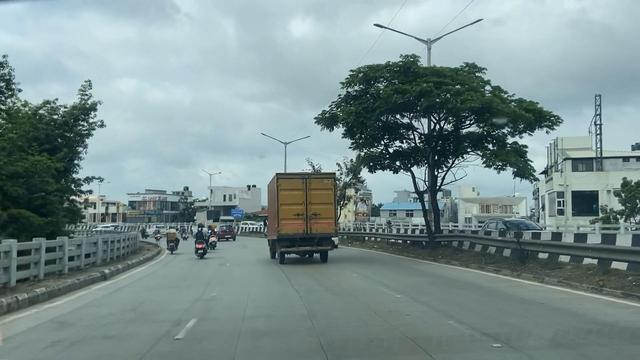HMV: (271, 167, 334, 265)
LMV: (192, 223, 210, 259), (166, 225, 182, 258), (219, 223, 238, 241)
